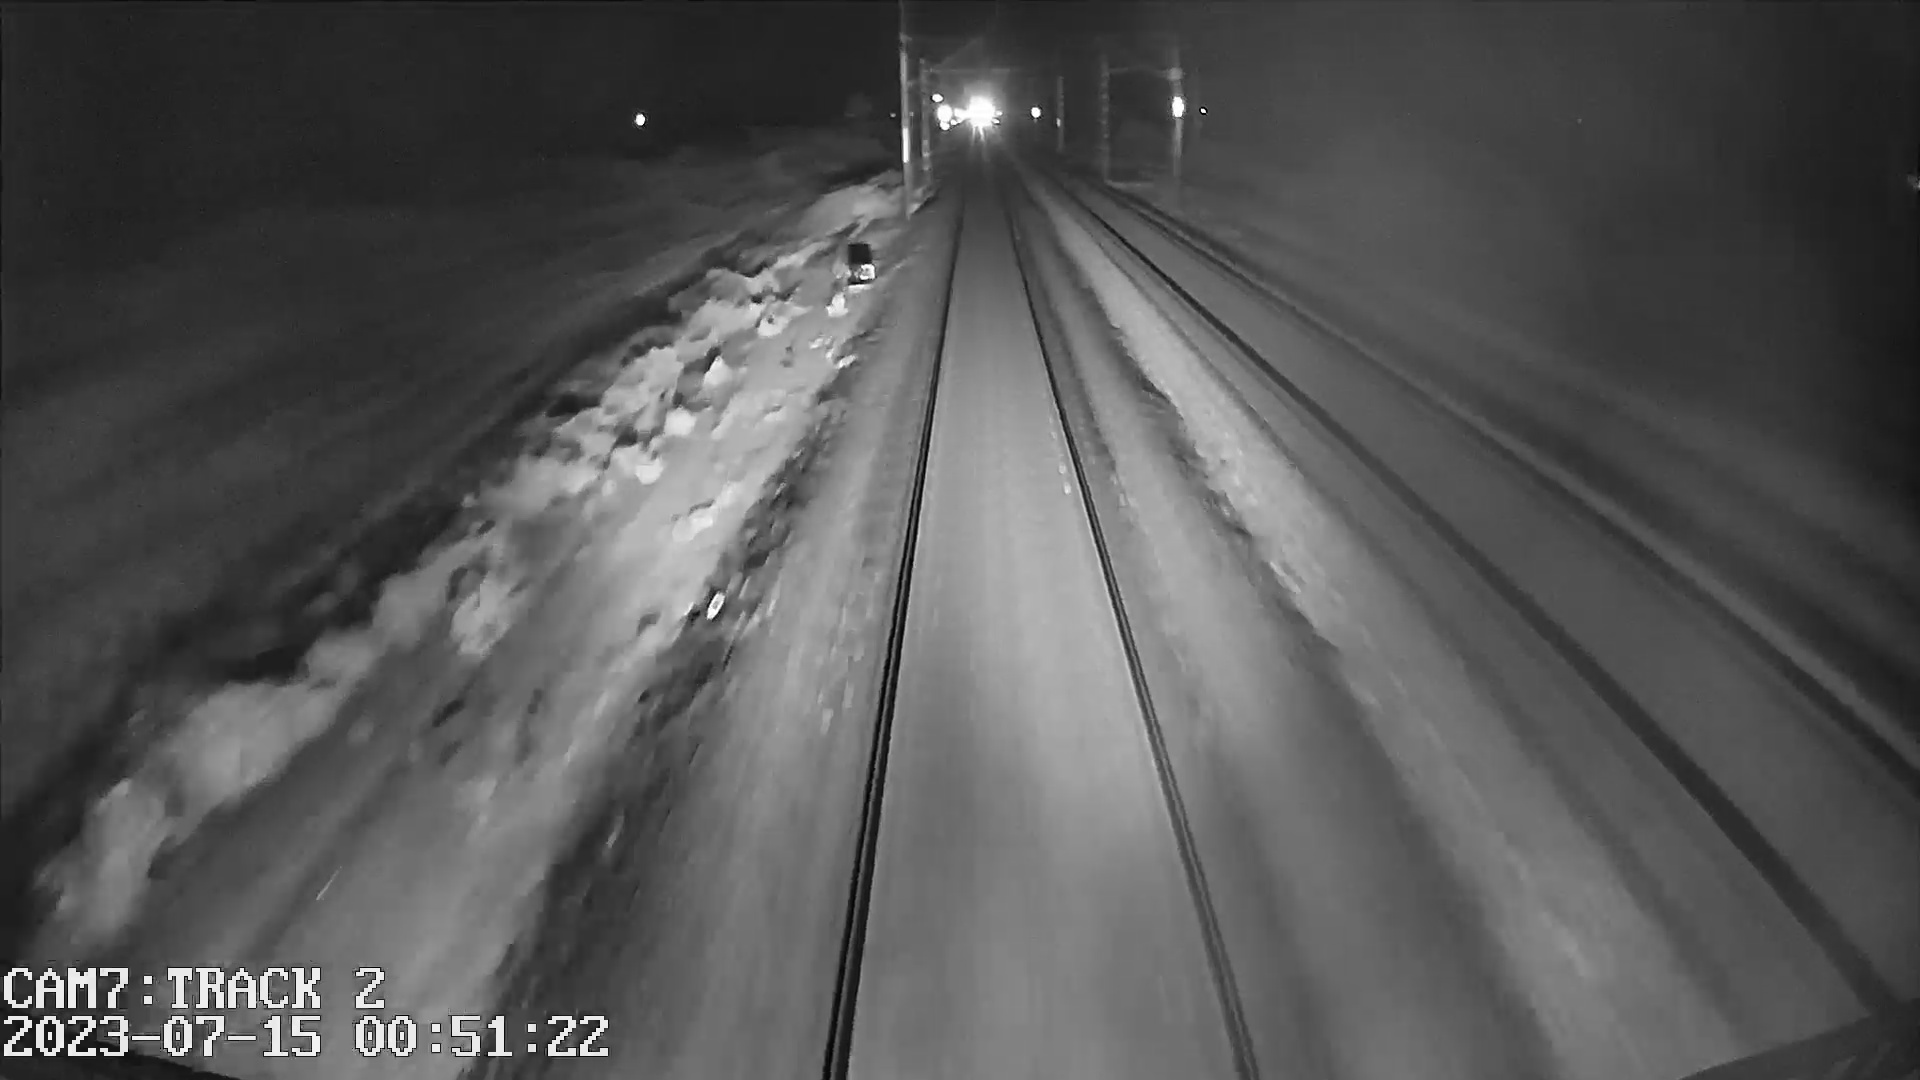track1: (836, 187, 1247, 1059)
track2: (1075, 194, 1907, 903)
